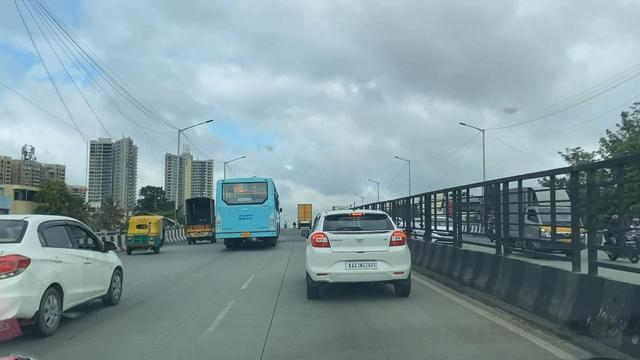HMV: (216, 165, 284, 253), (182, 197, 217, 246), (295, 199, 314, 234)
LMV: (0, 196, 161, 335), (287, 205, 422, 304), (123, 209, 173, 256)
